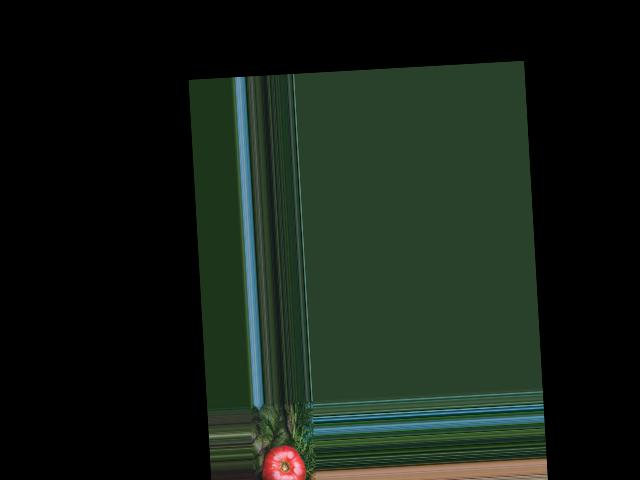tomato: (259, 444, 307, 480)
